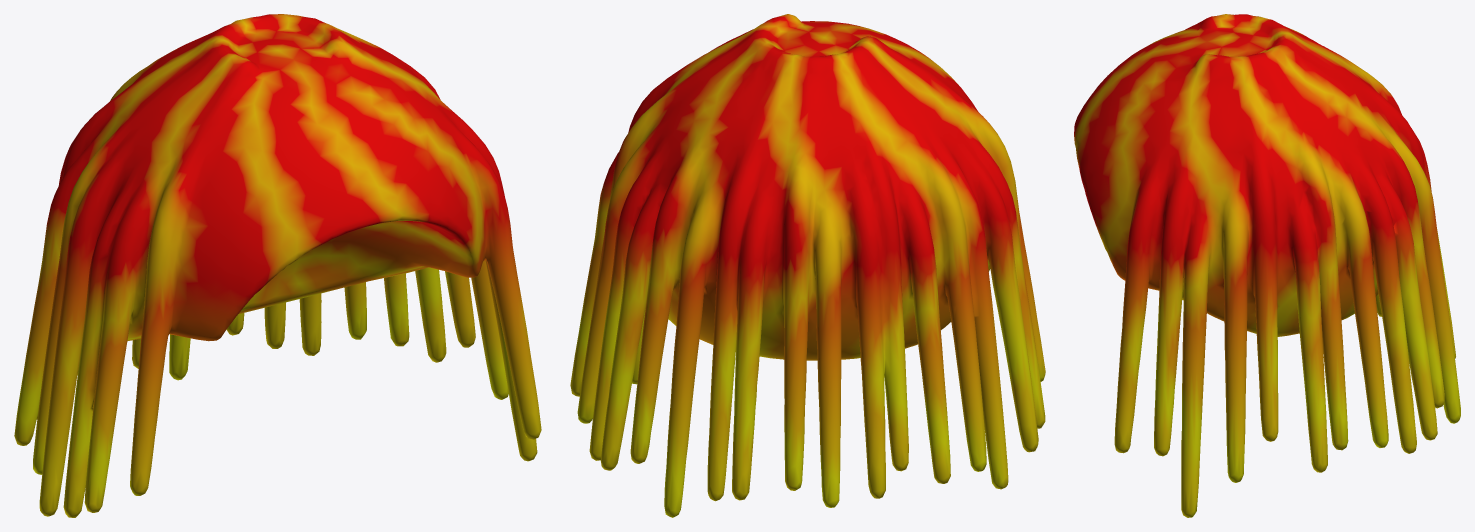
File: dreads.glb
3 renders of one model, left to right at view 1: azimuth 30°, elevation 25°; view 2: azimuth 150°, elevation 25°; view 3: azimuth 270°, elevation 25°, orthographic. The views are drawn at different scales.
Parts seen in each view (by area): view 1: part; view 2: part; view 3: part.
Part boxes in pixels (<box>): part: <box>14,14,541,517</box>; part: <box>570,14,1045,517</box>; part: <box>1074,14,1460,517</box>.
Bounding box in the file's own units: 2.71 × 2.57 × 2.32.
